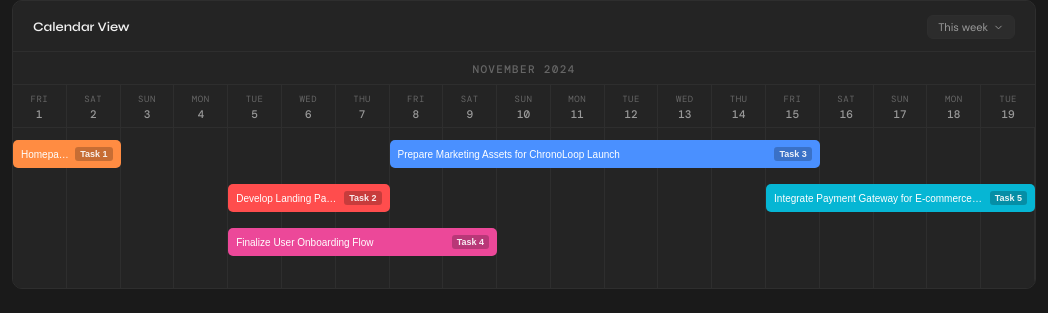
Test: CalendarWidget › the close button dismisses the popup
Click the text "Homepage for CareyCare App".
click(45, 154)  # box [21,148,69,160]
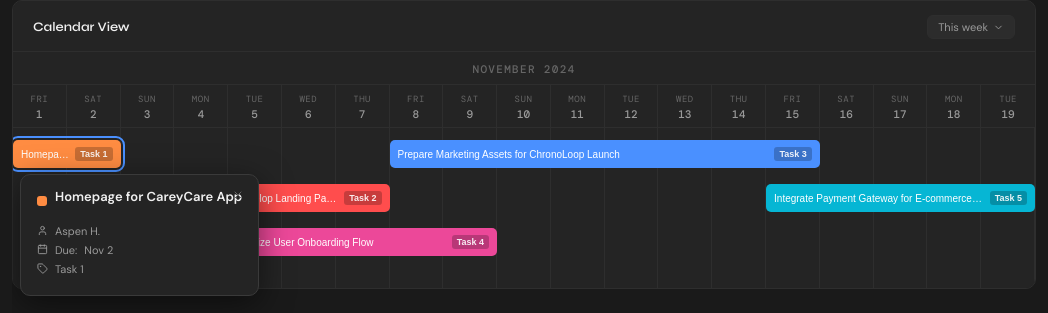
Click the button named "Close".
click(238, 195)  # box [228,185,248,205]
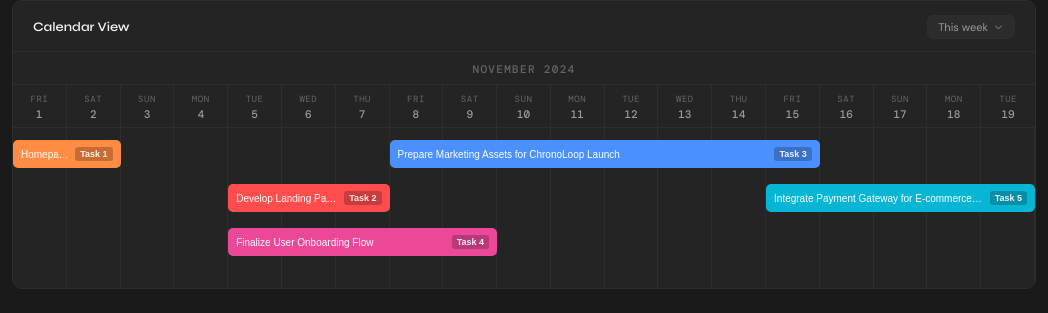
expect the text "Nov 2" is gone: met
